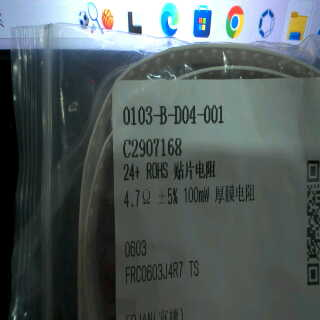4.7R: (116, 185, 153, 214)
